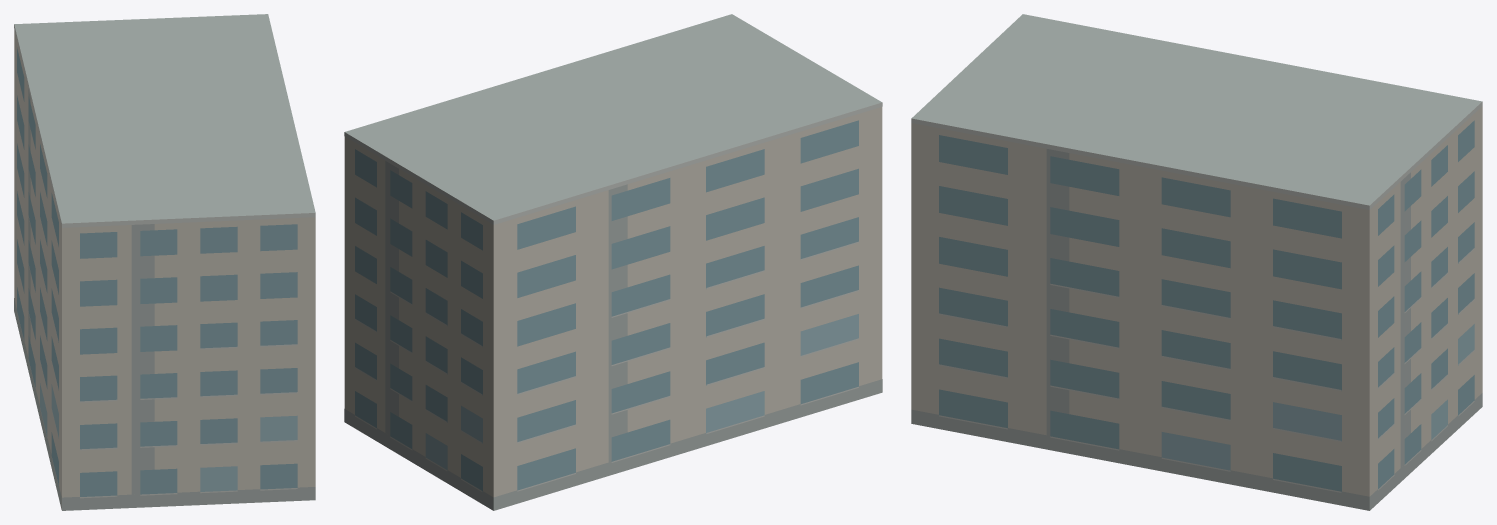
File: survey-upis-32478921.glb
3 renders of one model, left to right at view 1: azimuth 30°, elevation 25°; view 2: azimuth 150°, elevation 25°; view 3: azimuth 270°, elevation 25°, orthographic. The views are drawn at different scales.
Visible parts, largest first — view 1: survey-upis-32478921.tmp; view 2: survey-upis-32478921.tmp; view 3: survey-upis-32478921.tmp.
Boxes of the visible parts, x1,y1,x2,y2 form: survey-upis-32478921.tmp: [14, 14, 315, 510]; survey-upis-32478921.tmp: [344, 14, 882, 510]; survey-upis-32478921.tmp: [911, 14, 1482, 510].
Bounding box in the file's own units: 21.94 × 16.3 × 27.64.
